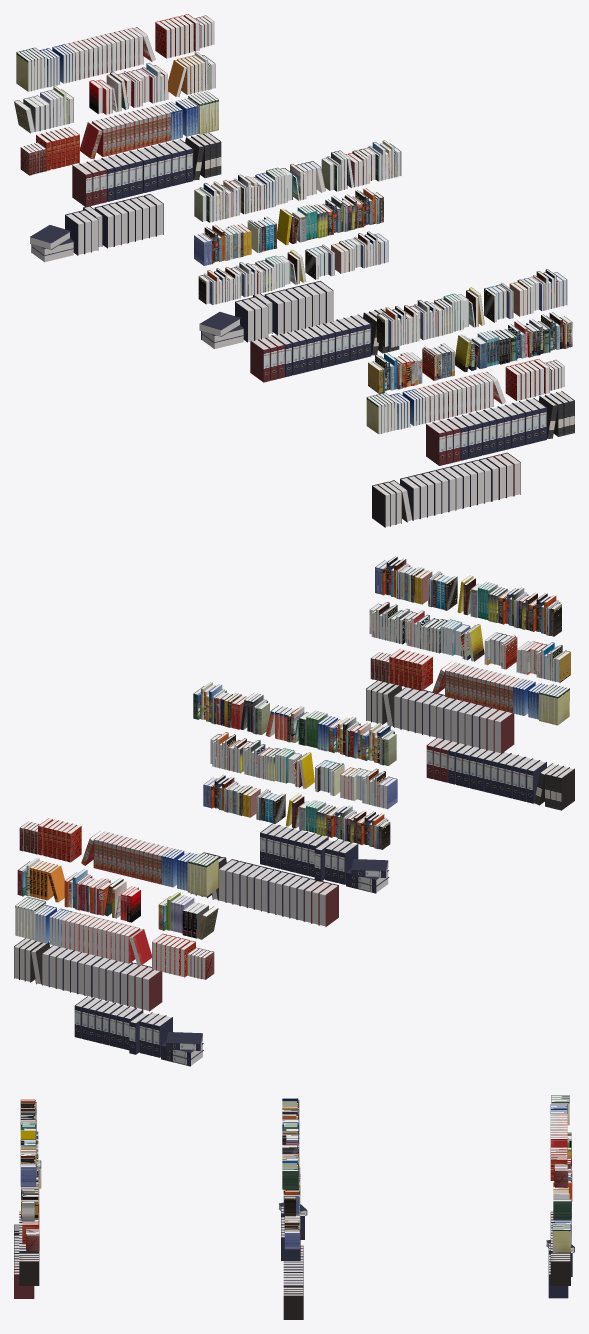
Rendered from Books03.fbx.
3 views of the same model, one above another, from view 1: azimuth 30°, elevation 25°; view 2: azimuth 150°, elevation 25°; view 3: azimuth 270°, elevation 25° (orthographic). The views are drawn at different scales.
Visible parts, largest first — view 1: Books03; view 2: Books03; view 3: Books03.
Part boxes in pixels (x1,y1,x2,y2): Books03: (14, 14, 574, 527); Books03: (14, 556, 574, 1066); Books03: (14, 1095, 574, 1319).
Bounding box in the file's own units: 2.11 × 2.12 × 6.95.
